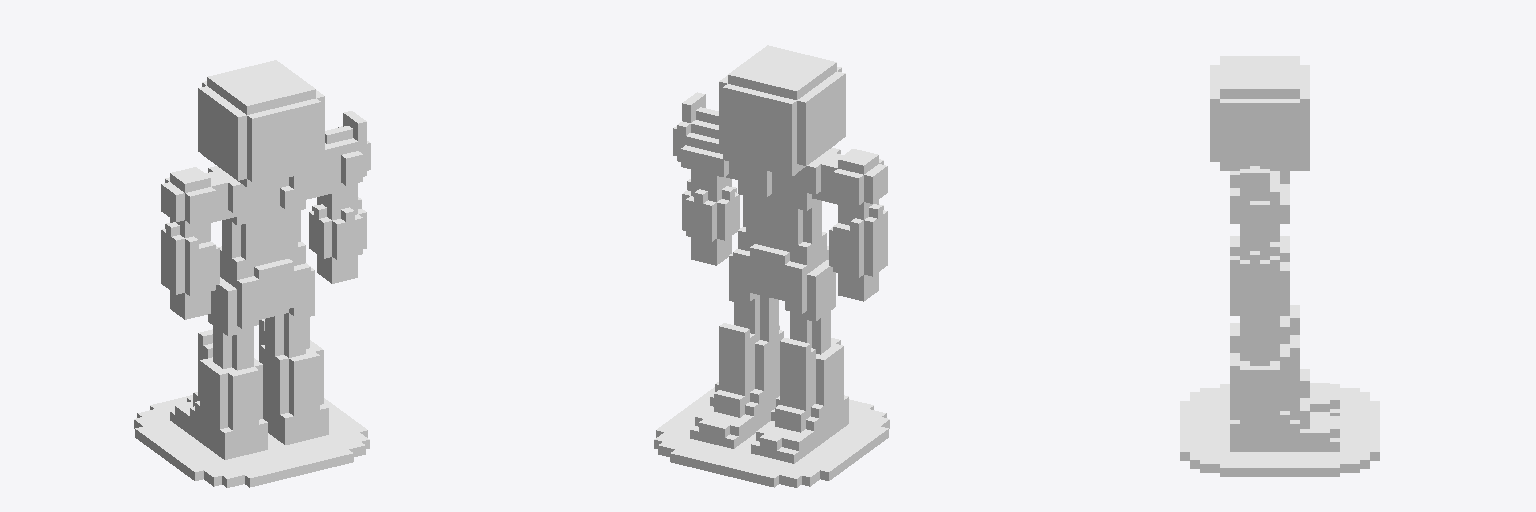
The model's file is hellKnight.obj.
3 renders of one model, left to right at view 1: azimuth 30°, elevation 25°; view 2: azimuth 150°, elevation 25°; view 3: azimuth 270°, elevation 25°, orthographic.
Parts seen in each view (by area): view 1: hellKnight; view 2: hellKnight; view 3: hellKnight.
Part boxes in pixels (left/top/right/bottom): hellKnight: left=134, top=60, right=370, bottom=487; hellKnight: left=654, top=45, right=889, bottom=487; hellKnight: left=1180, top=56, right=1379, bottom=476.
Bounding box in the file's own units: 23 × 40 × 20.